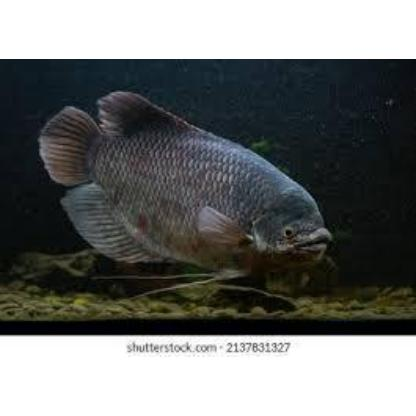gurame: (41, 91, 335, 271)
